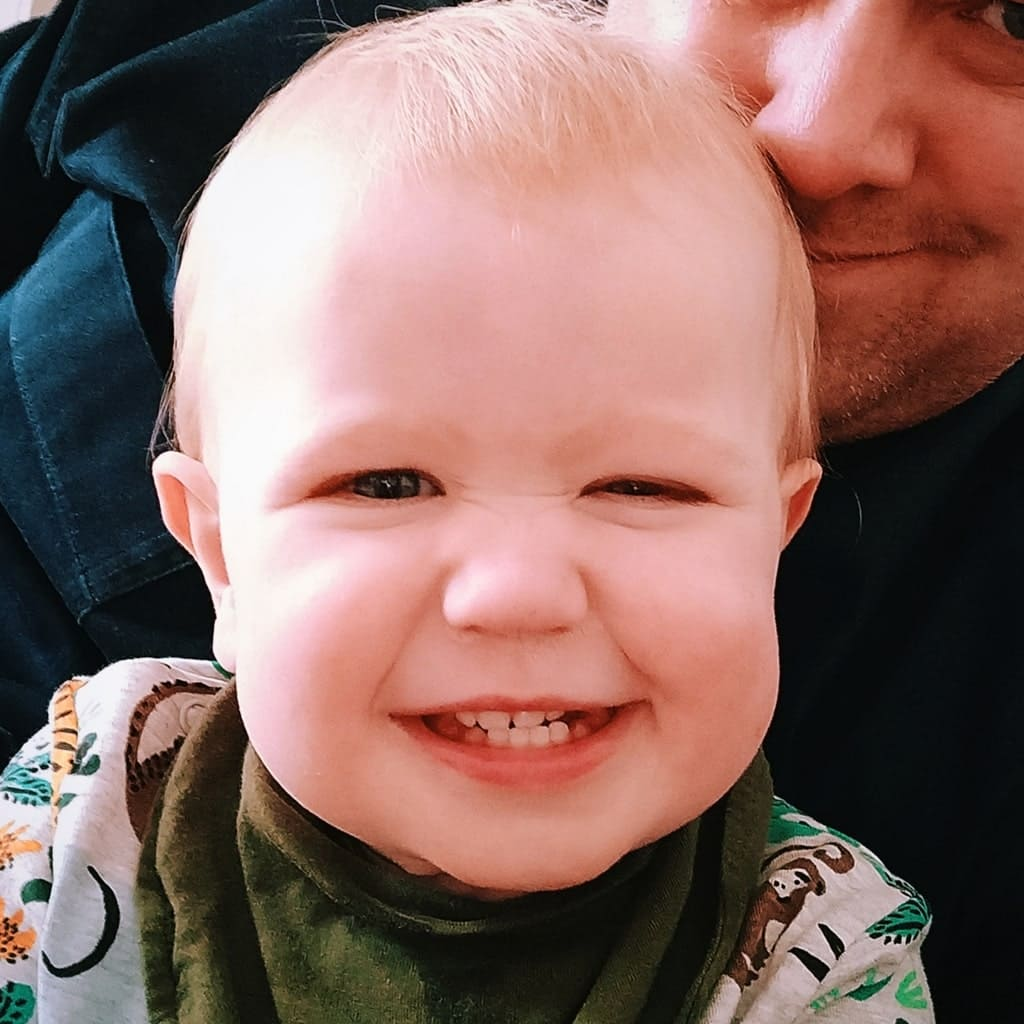without_mask: (251, 198, 768, 826)
